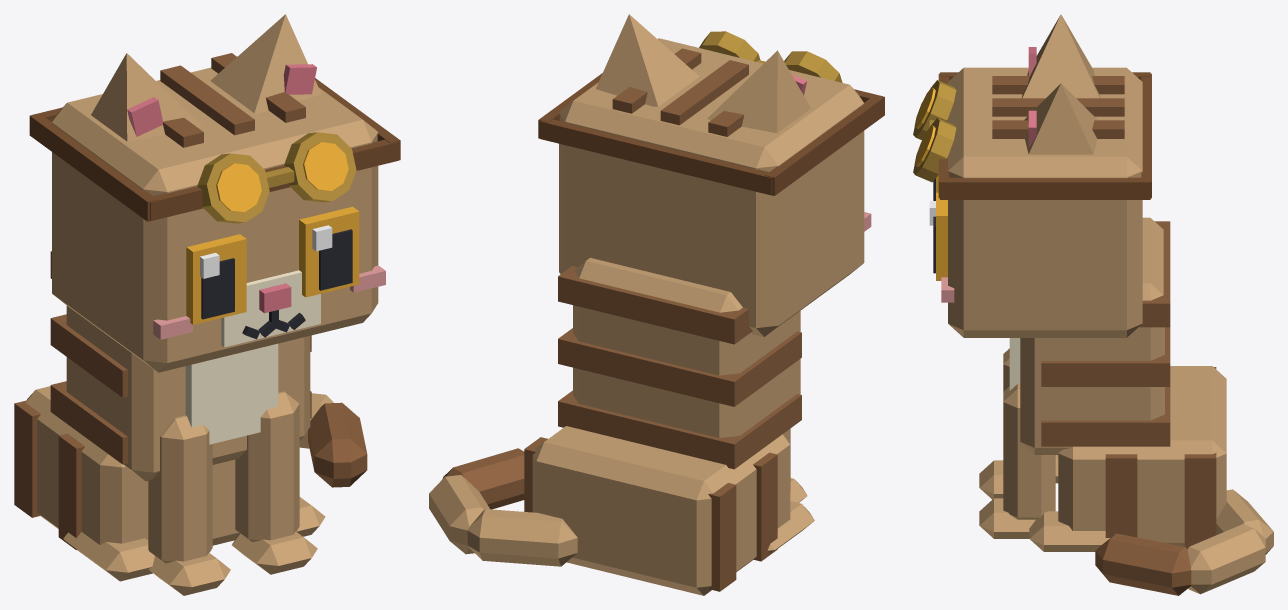
The model's file is CatCafe_Cat_Dune_Sit.glb.
The picture shows the model from 3 angles, left to right: view 1: azimuth 30°, elevation 25°; view 2: azimuth 150°, elevation 25°; view 3: azimuth 270°, elevation 25°; orthographic projection. The views are drawn at different scales.
Visible parts, largest first — view 1: CatCafe_Cat_Dune_Sit_Head, CatCafe_Cat_Dune_Sit_Body, CatCafe_Cat_Dune_Sit_Prop, CatCafe_Cat_Dune_Sit_LegF2, CatCafe_Cat_Dune_Sit_LegF1, CatCafe_Cat_Dune_Sit_EarL, CatCafe_Cat_Dune_Sit_Eye2, CatCafe_Cat_Dune_Sit_Eye1, CatCafe_Cat_Dune_Sit_EarR, CatCafe_Cat_Dune_Sit_Tail; view 2: CatCafe_Cat_Dune_Sit_Body, CatCafe_Cat_Dune_Sit_Head, CatCafe_Cat_Dune_Sit_Prop, CatCafe_Cat_Dune_Sit_Tail, CatCafe_Cat_Dune_Sit_EarL, CatCafe_Cat_Dune_Sit_EarR; view 3: CatCafe_Cat_Dune_Sit_Head, CatCafe_Cat_Dune_Sit_Body, CatCafe_Cat_Dune_Sit_Tail, CatCafe_Cat_Dune_Sit_Prop, CatCafe_Cat_Dune_Sit_LegF1, CatCafe_Cat_Dune_Sit_EarL, CatCafe_Cat_Dune_Sit_EarR, CatCafe_Cat_Dune_Sit_Eye1, CatCafe_Cat_Dune_Sit_LegF2.
Part boxes in pixels (left/top/right/bottom): CatCafe_Cat_Dune_Sit_Head: left=52, top=53, right=385, bottom=372; CatCafe_Cat_Dune_Sit_Body: left=14, top=251, right=325, bottom=581; CatCafe_Cat_Dune_Sit_Prop: left=29, top=78, right=400, bottom=223; CatCafe_Cat_Dune_Sit_LegF2: left=148, top=415, right=230, bottom=595; CatCafe_Cat_Dune_Sit_LegF1: left=232, top=391, right=317, bottom=574; CatCafe_Cat_Dune_Sit_EarL: left=210, top=14, right=321, bottom=113; CatCafe_Cat_Dune_Sit_Eye2: left=186, top=234, right=246, bottom=324; CatCafe_Cat_Dune_Sit_Eye1: left=299, top=206, right=359, bottom=297; CatCafe_Cat_Dune_Sit_EarR: left=91, top=53, right=201, bottom=141; CatCafe_Cat_Dune_Sit_Tail: left=299, top=393, right=367, bottom=487; CatCafe_Cat_Dune_Sit_Body: left=524, top=257, right=814, bottom=595; CatCafe_Cat_Dune_Sit_Head: left=559, top=38, right=871, bottom=336; CatCafe_Cat_Dune_Sit_Prop: left=538, top=31, right=884, bottom=195; CatCafe_Cat_Dune_Sit_Tail: left=429, top=448, right=577, bottom=566; CatCafe_Cat_Dune_Sit_EarL: left=595, top=14, right=699, bottom=106; CatCafe_Cat_Dune_Sit_EarR: left=707, top=50, right=810, bottom=133; CatCafe_Cat_Dune_Sit_Head: left=941, top=67, right=1142, bottom=337; CatCafe_Cat_Dune_Sit_Body: left=1009, top=217, right=1226, bottom=551; CatCafe_Cat_Dune_Sit_Tail: left=1095, top=489, right=1273, bottom=595; CatCafe_Cat_Dune_Sit_Prop: left=913, top=72, right=1151, bottom=199; CatCafe_Cat_Dune_Sit_LegF1: left=979, top=384, right=1055, bottom=538; CatCafe_Cat_Dune_Sit_EarL: left=1024, top=83, right=1097, bottom=154; CatCafe_Cat_Dune_Sit_EarR: left=1022, top=14, right=1100, bottom=98; CatCafe_Cat_Dune_Sit_Eye1: left=929, top=192, right=947, bottom=280; CatCafe_Cat_Dune_Sit_LegF2: left=979, top=348, right=1009, bottom=499.
Size of the model in its own units: 1.27 by 1.85 by 1.3.
1 material, 1 textured.
